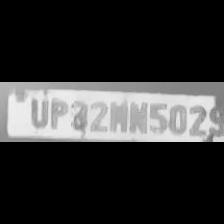0: (166, 100, 186, 134)
2: (187, 101, 207, 135), (88, 98, 106, 132)
5: (146, 99, 166, 134)
M: (108, 97, 128, 132)
N: (128, 98, 146, 134)
P: (47, 96, 66, 130)
U: (26, 96, 48, 128)
